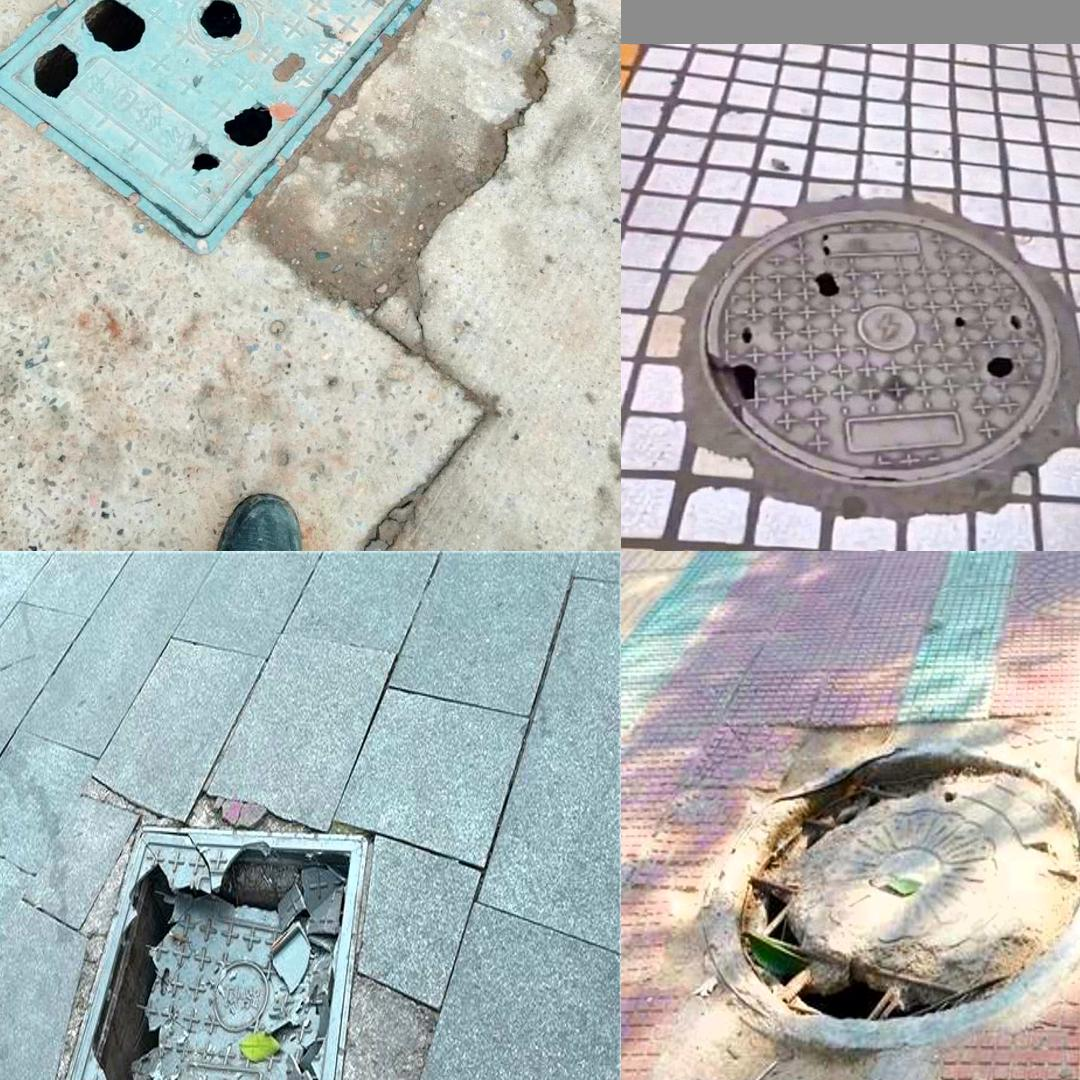broke: (705, 730, 1080, 1047), (0, 0, 453, 253), (20, 800, 394, 1080), (704, 215, 1062, 488)
